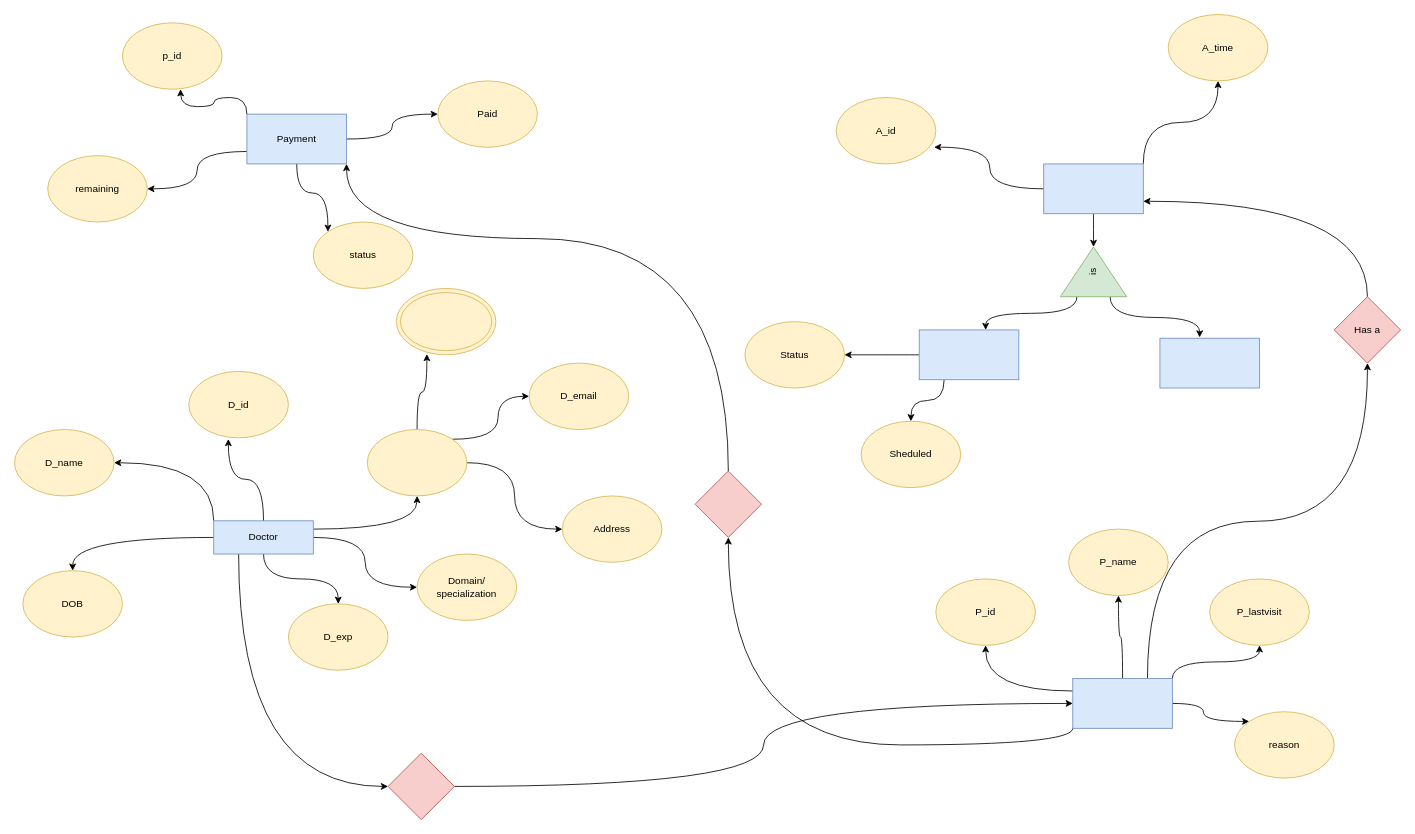
Image size: 1415x834. Some labels were removed from this diagram. Each missing label, with the centre of its shape:
"Appointment" goes at pixel 1093 188.
"Assigned to" goes at pixel 420 786.
"Confirmed" goes at pixel 968 354.
"D_contact" goes at pixel 416 462.
"D_phone" goes at pixel 446 321.
"Done" goes at pixel 728 503.
"Patient" goes at pixel 1122 703.
"Waiting" goes at pixel 1209 362.
